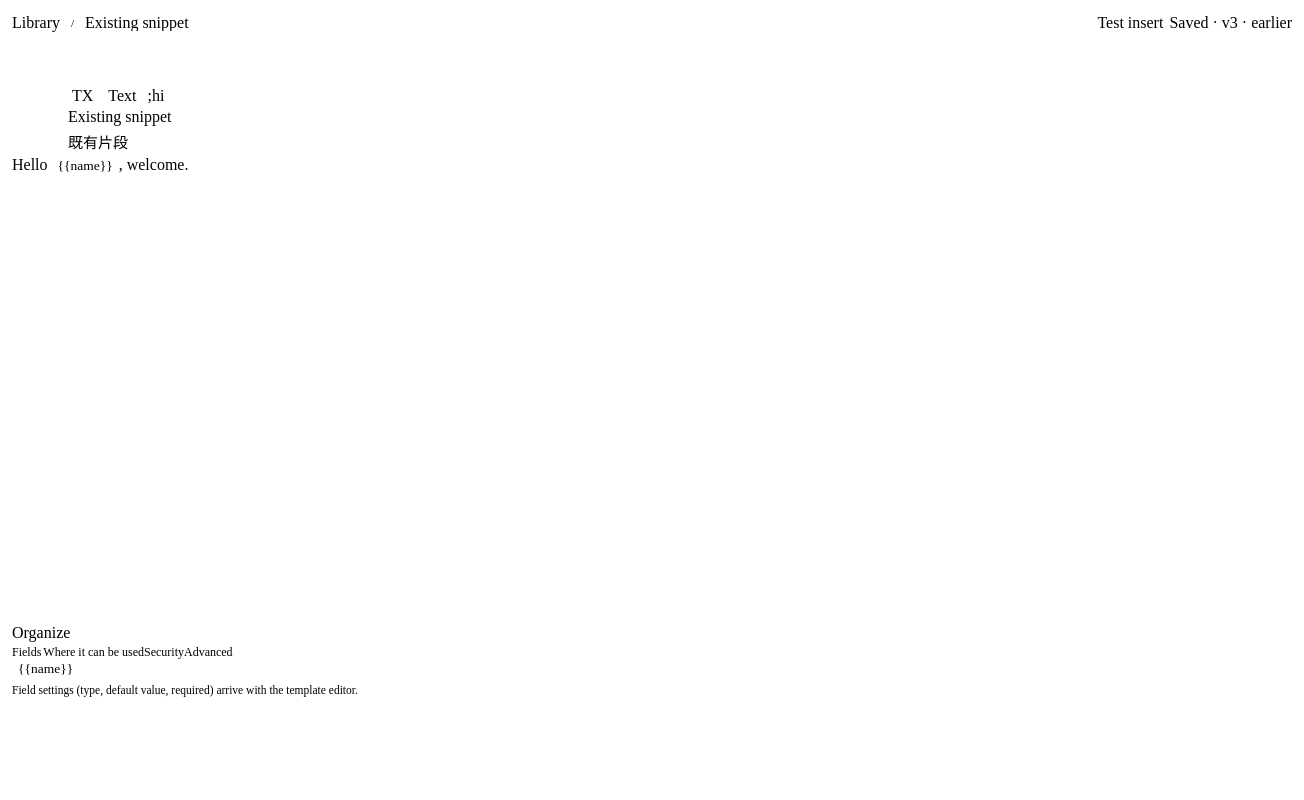
Test case: EditorPage › renders only the open property tab
Expected: the field labelled "Trigger" is not shown
Click the tab "Where it can be used" at x=94, y=652, box [43,646,144,658]
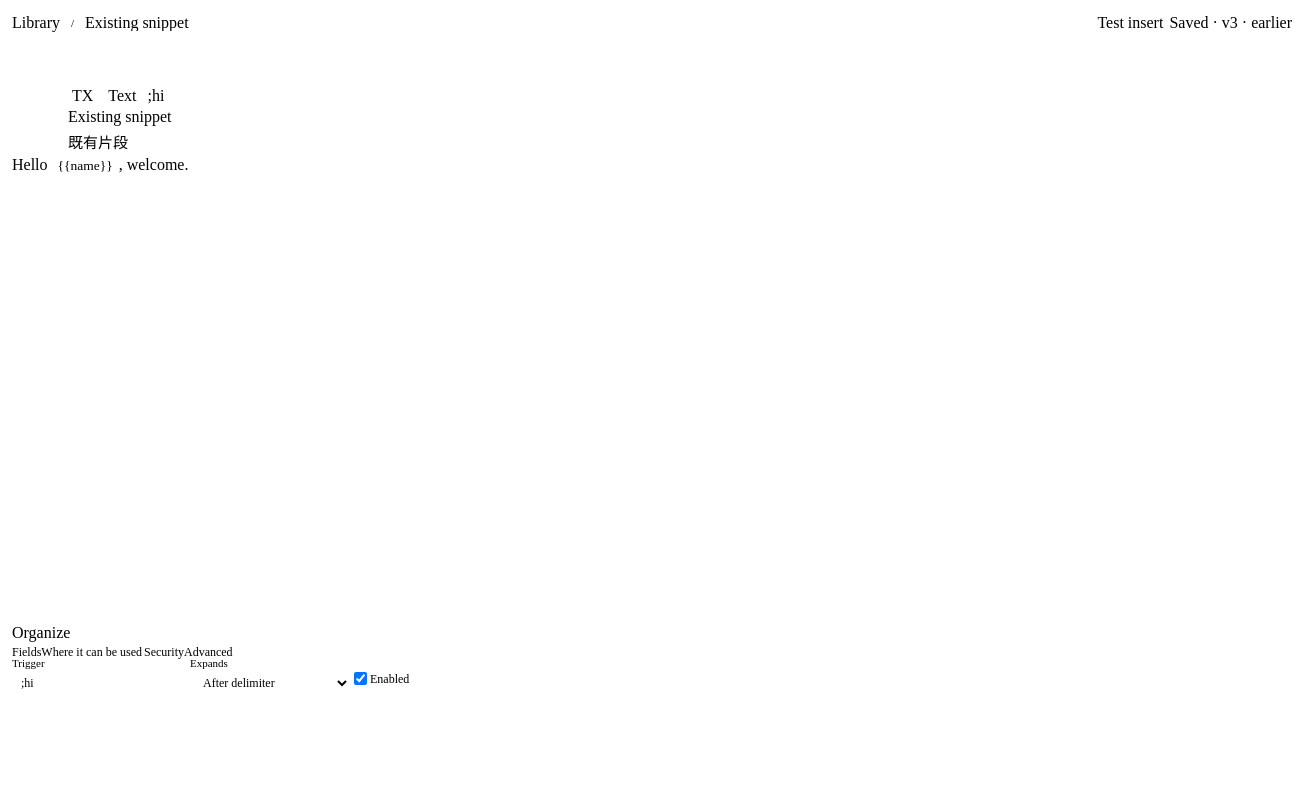
Expected: the field labelled "Trigger" is shown, [12,669,190,697]
Expected: the text "Field settings" is gone
